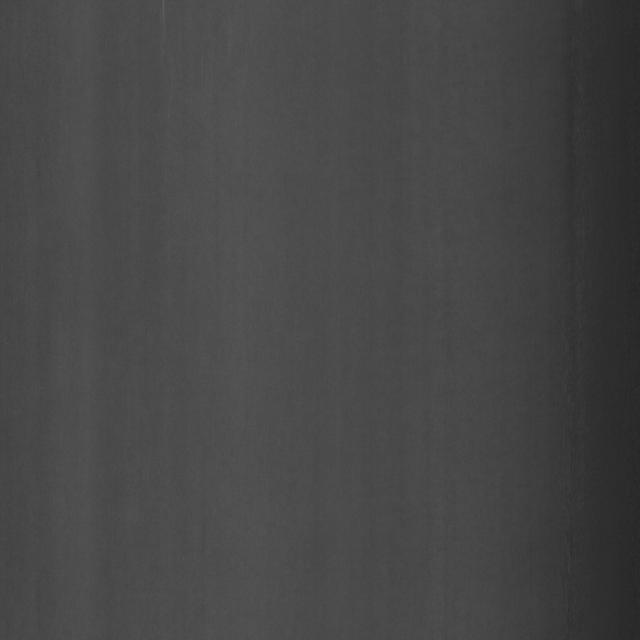inclusion: (142, 138, 208, 350)
